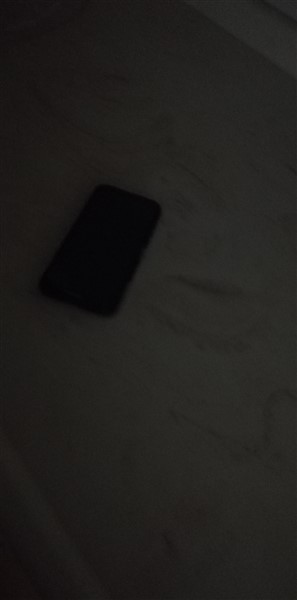telefon: (32, 173, 175, 329)
